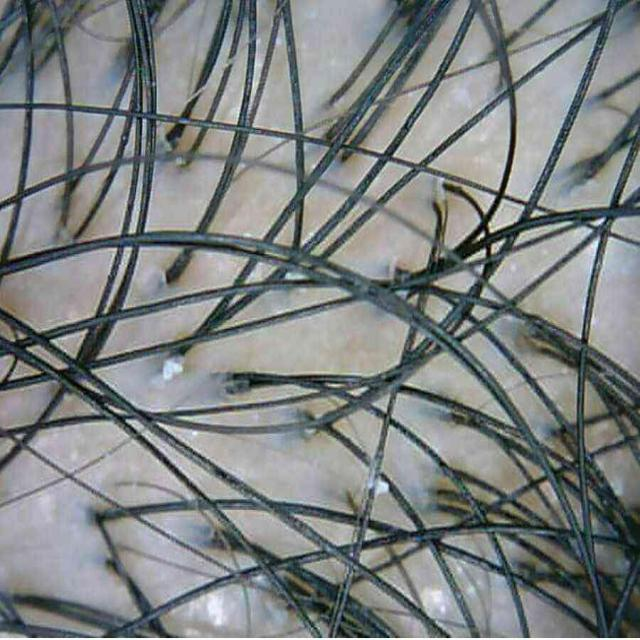d: (162, 357, 184, 380), (375, 479, 389, 496)
o: (162, 588, 230, 637), (420, 585, 450, 620)
